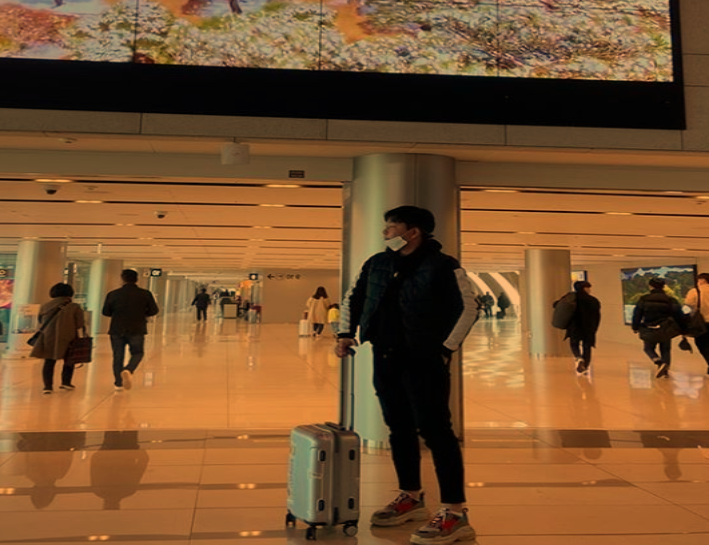mask_weared_incorrect: (377, 203, 432, 256)
